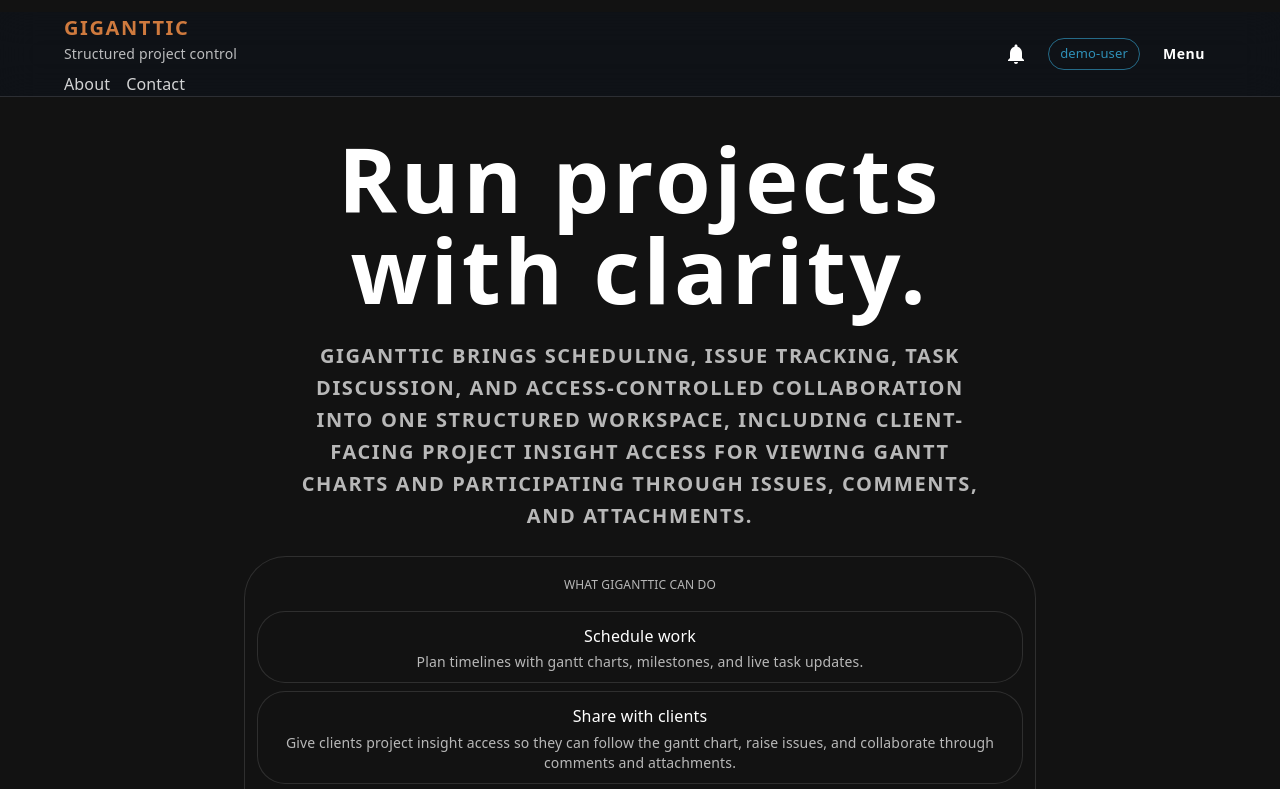
Scenario: app routing › navigates to the lobby when the authenticated username chip is clicked
The image size is (1280, 789).
Click the link with aria-label "Go to your lobby": (1094, 54) [1048,38,1140,70]
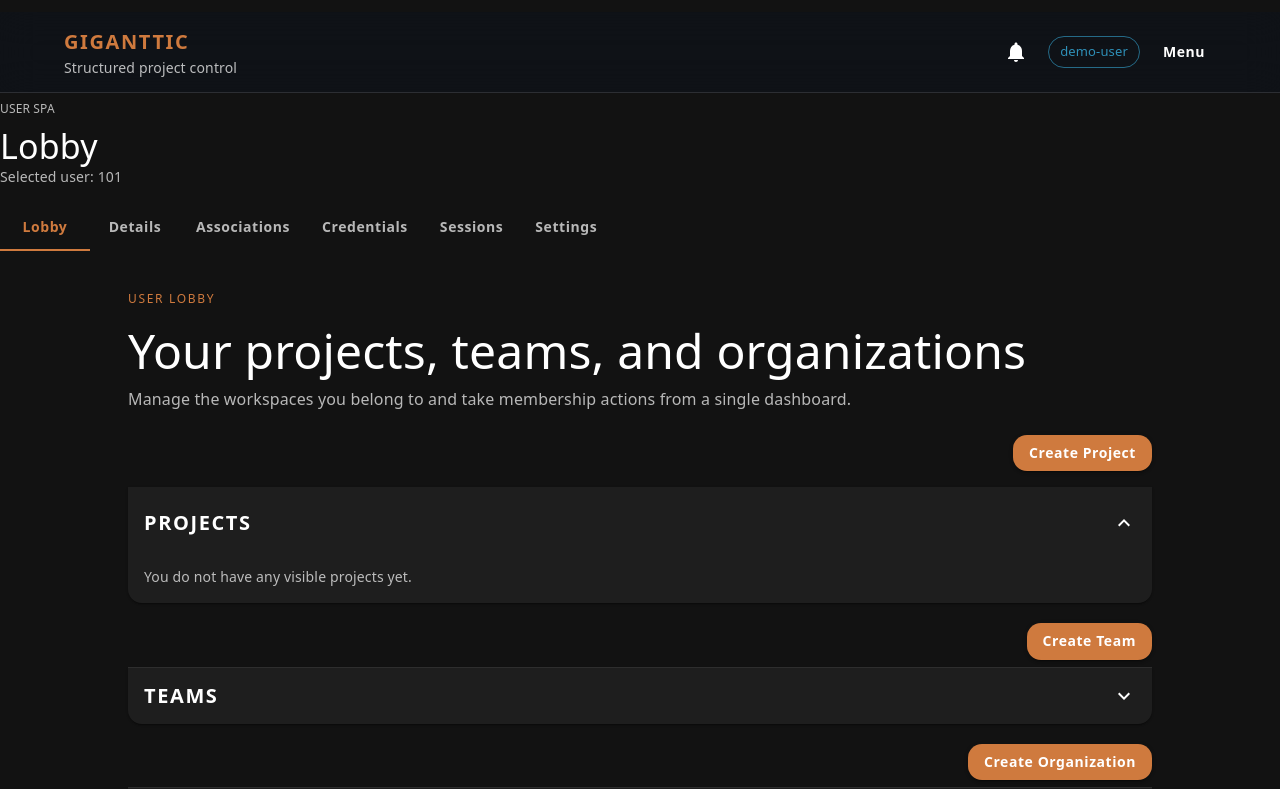
Result: the heading "Lobby" is shown at [0,123,98,169]
Result: the heading "Your projects, teams, and organizations" is shown at [128,323,1152,379]
